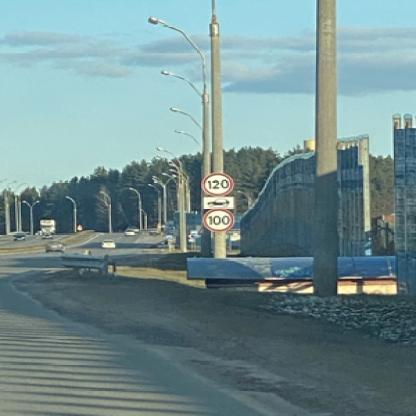speedlimit: (200, 172, 232, 194), (201, 208, 230, 229)
